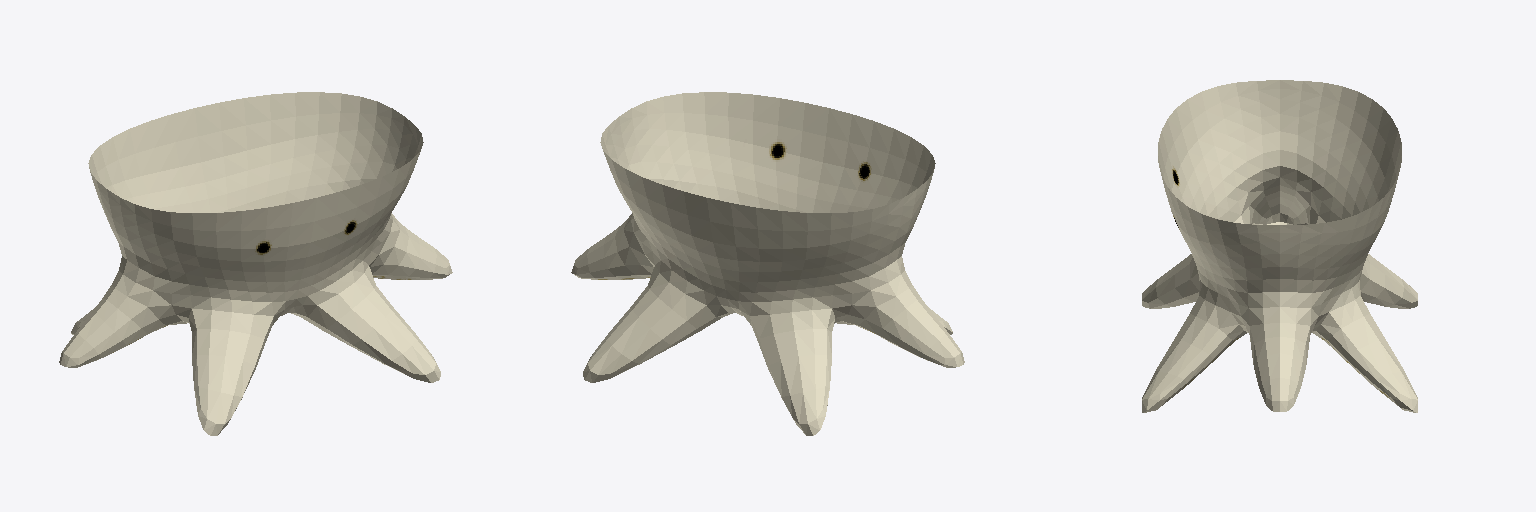
The picture shows the model from 3 angles: view 1: azimuth 30°, elevation 25°; view 2: azimuth 150°, elevation 25°; view 3: azimuth 270°, elevation 25°; orthographic projection.
Parts seen in each view (by area): view 1: Squid_Plane; view 2: Squid_Plane; view 3: Squid_Plane.
Boxes of the visible parts, x1=… form: Squid_Plane: x1=59, y1=92, x2=452, y2=435; Squid_Plane: x1=571, y1=92, x2=964, y2=435; Squid_Plane: x1=1142, y1=80, x2=1417, y2=412.
Bounding box in the file's own units: 2.81 × 1.42 × 1.72.
1 materials, 1 textured.